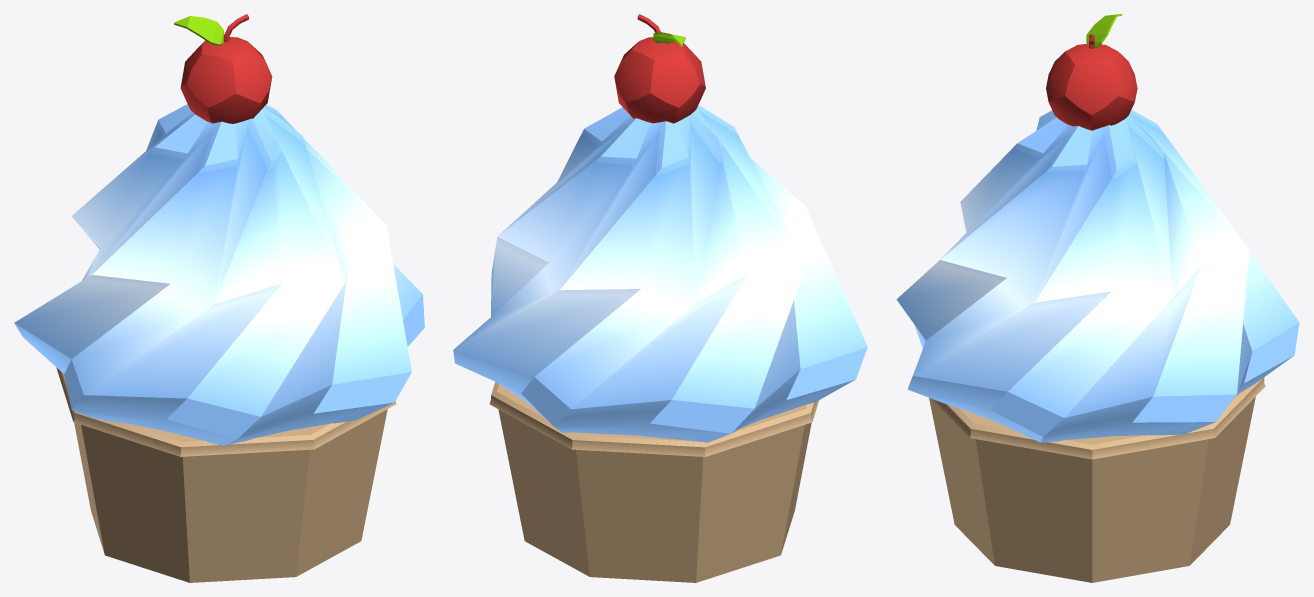
Rendered from cupcake-lamp-blueberry.glb.
3 renders of one model, left to right at view 1: azimuth 30°, elevation 25°; view 2: azimuth 150°, elevation 25°; view 3: azimuth 270°, elevation 25°, orthographic.
Visible parts, largest first — view 1: cupcake-lamp-strawberry; view 2: cupcake-lamp-strawberry; view 3: cupcake-lamp-strawberry.
Part boxes in pixels (<box>): cupcake-lamp-strawberry: <box>14,14,424,582</box>; cupcake-lamp-strawberry: <box>453,14,867,582</box>; cupcake-lamp-strawberry: <box>896,14,1299,582</box>.
Size of what is drawn, in the model's own units: 0.5905 by 0.7991 by 0.5855.
Materials: 4 (1 with a texture image).
